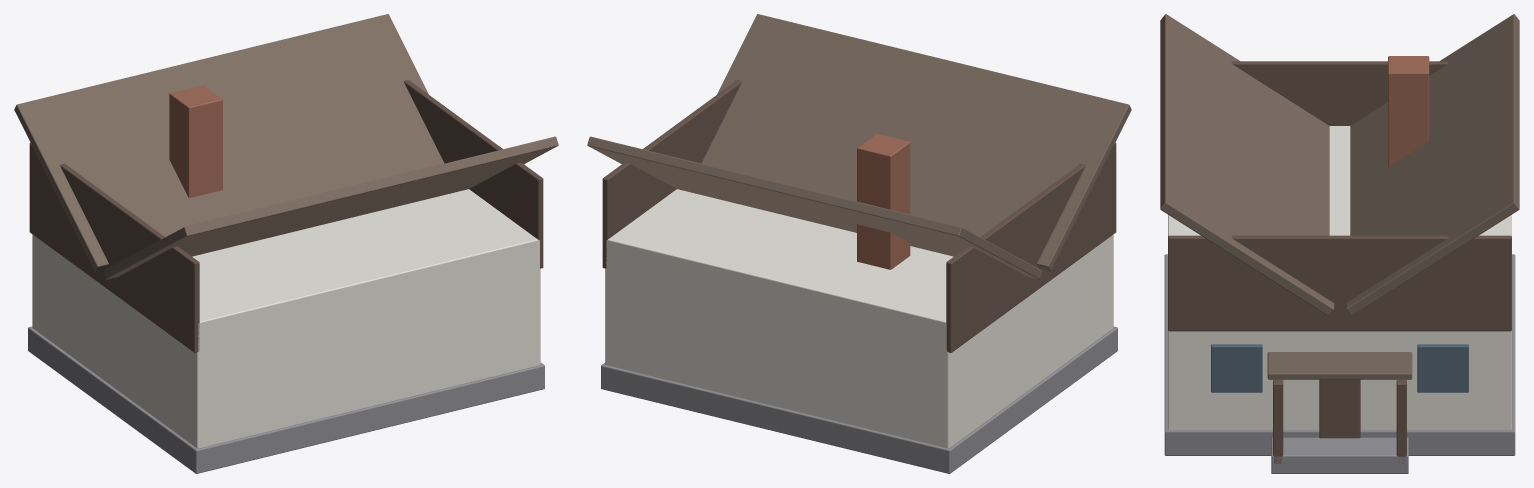
File: Small_House_.fbx
3 views of the same model, side by side, from view 1: azimuth 30°, elevation 25°; view 2: azimuth 150°, elevation 25°; view 3: azimuth 270°, elevation 25° (orthographic). The views are drawn at different scales.
Visible parts, largest first — view 1: House_Main_Body, Roof_Slope_L, House_Foundation, Gable_Rear, Roof_Slope_R, Gable_Front, Brick_Chimney; view 2: House_Main_Body, Roof_Slope_R, House_Foundation, Gable_Rear, Roof_Slope_L, Gable_Front, Brick_Chimney; view 3: Roof_Slope_R, Gable_Front, Roof_Slope_L, House_Main_Body, House_Foundation, Gable_Rear, Porch_Platform, Brick_Chimney, Porch_Roof, Window_Left_1, Window_Left_2, Front_Door (+2 smaller).
Part boxes in pixels (bbox=[...]): House_Main_Body: bbox=[32, 189, 540, 448]; Roof_Slope_L: bbox=[14, 14, 444, 271]; House_Foundation: bbox=[28, 326, 544, 473]; Gable_Rear: bbox=[29, 142, 199, 352]; Roof_Slope_R: bbox=[103, 136, 558, 279]; Gable_Front: bbox=[404, 80, 543, 268]; Brick_Chimney: bbox=[169, 85, 222, 198]; House_Main_Body: bbox=[605, 189, 1113, 448]; Roof_Slope_R: bbox=[701, 14, 1131, 271]; House_Foundation: bbox=[601, 326, 1117, 473]; Gable_Rear: bbox=[946, 142, 1116, 352]; Roof_Slope_L: bbox=[587, 136, 1042, 279]; Gable_Front: bbox=[602, 80, 741, 268]; Brick_Chimney: bbox=[857, 134, 910, 269]; Roof_Slope_R: bbox=[1160, 14, 1334, 315]; Gable_Front: bbox=[1168, 235, 1511, 331]; Roof_Slope_L: bbox=[1345, 14, 1519, 315]; House_Main_Body: bbox=[1168, 126, 1511, 429]; House_Foundation: bbox=[1164, 254, 1515, 455]; Gable_Rear: bbox=[1231, 61, 1448, 125]; Porch_Platform: bbox=[1271, 437, 1408, 473]; Brick_Chimney: bbox=[1388, 56, 1429, 166]; Porch_Roof: bbox=[1267, 352, 1412, 379]; Window_Left_1: bbox=[1417, 344, 1468, 392]; Window_Left_2: bbox=[1211, 344, 1262, 392]; Front_Door: bbox=[1319, 379, 1360, 438].
Bounding box in the file's own units: 14 × 10.46 × 8.8.
